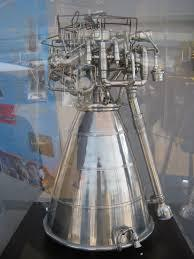thruster: (39, 114, 158, 253)
